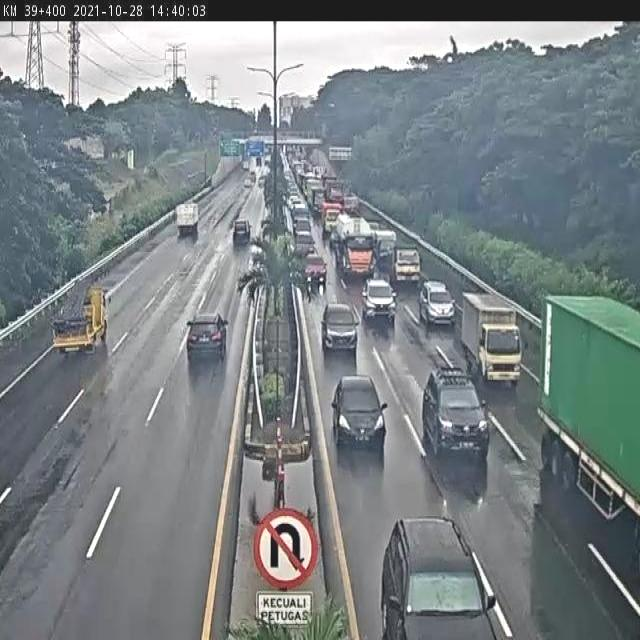Car: (377, 515, 502, 638), (422, 358, 489, 464), (330, 374, 388, 462), (185, 312, 229, 364), (320, 301, 359, 356), (419, 280, 456, 329), (361, 277, 398, 326), (294, 229, 316, 259), (307, 252, 329, 282), (292, 207, 311, 236), (233, 218, 251, 245)
Truck: (539, 296, 640, 600), (460, 294, 522, 389), (51, 283, 110, 355), (334, 214, 375, 278), (392, 247, 422, 288), (175, 202, 199, 238), (321, 200, 345, 236)
